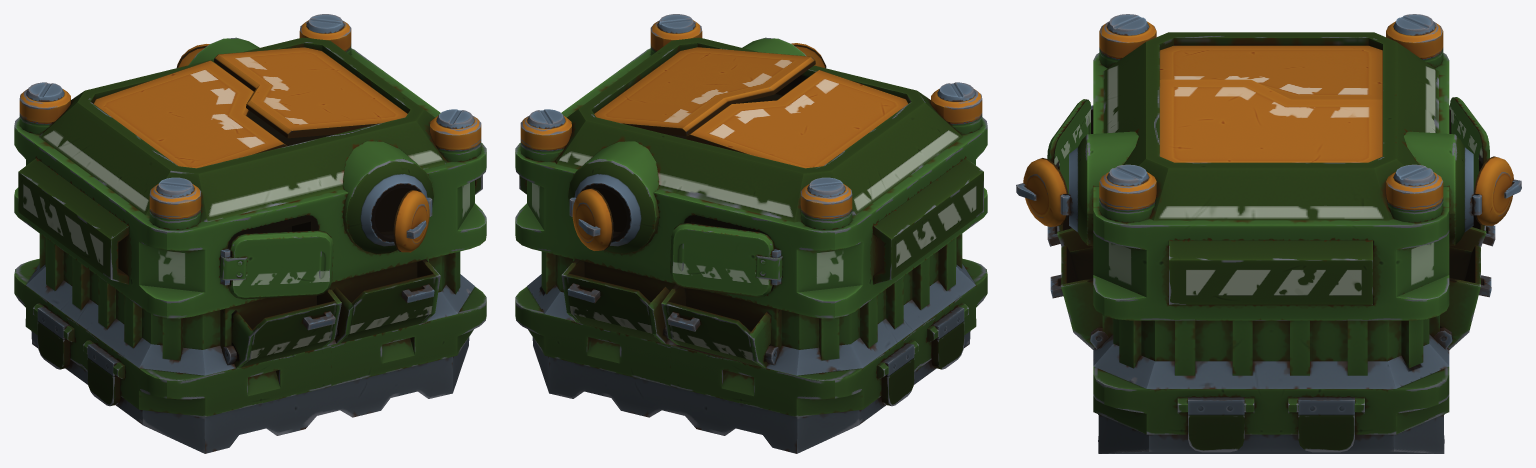
The model's file is obj_survivalobjects_ruinchest_pose0.fbx.
3 renders of one model, left to right at view 1: azimuth 30°, elevation 25°; view 2: azimuth 150°, elevation 25°; view 3: azimuth 270°, elevation 25°, orthographic. The views are drawn at different scales.
Parts seen in each view (by area): view 1: obj_survivalobjects_ruinchest_pose1; view 2: obj_survivalobjects_ruinchest_pose1; view 3: obj_survivalobjects_ruinchest_pose1.
Part boxes in pixels (x1=…): obj_survivalobjects_ruinchest_pose1: x1=14, y1=14, x2=486, y2=453; obj_survivalobjects_ruinchest_pose1: x1=515, y1=14, x2=987, y2=453; obj_survivalobjects_ruinchest_pose1: x1=1016, y1=14, x2=1521, y2=453.
Bounding box in the file's own units: 13.29 × 9.38 × 14.2.
